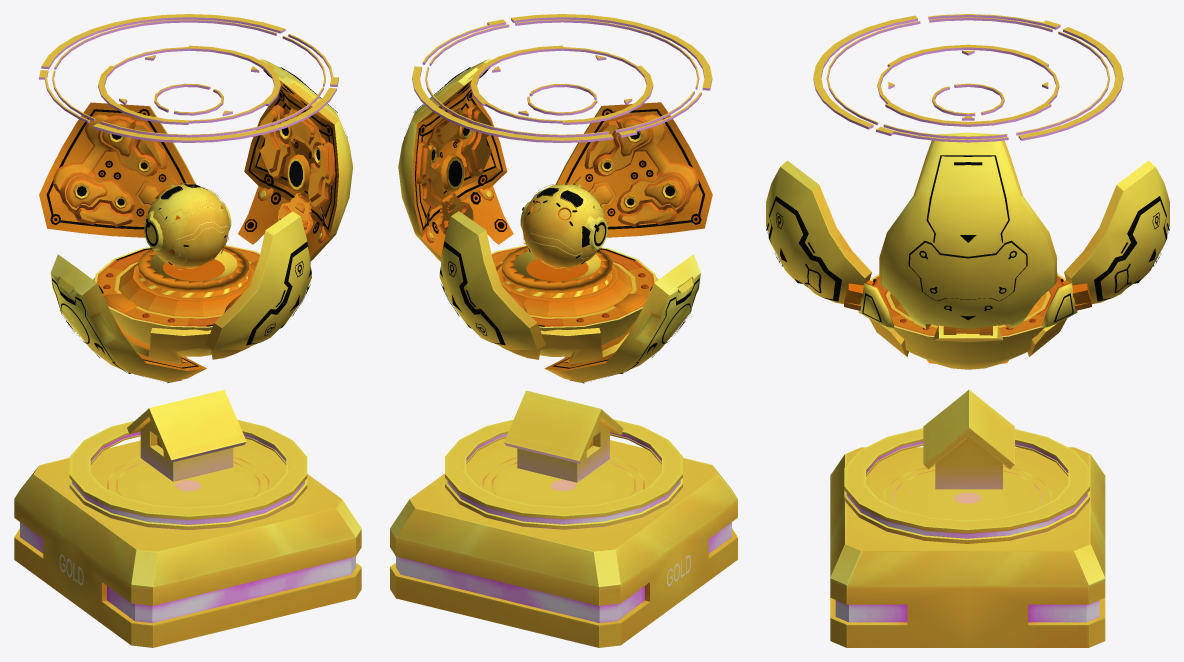
Rendered from my_trophy_chesed_indoor_gold.glb.
3 renders of one model, left to right at view 1: azimuth 30°, elevation 25°; view 2: azimuth 150°, elevation 25°; view 3: azimuth 270°, elevation 25°, orthographic. The views are drawn at different scales.
Visible parts, largest first — view 1: my_trophy_chesed_indoor_gold; view 2: my_trophy_chesed_indoor_gold; view 3: my_trophy_chesed_indoor_gold.
Part boxes in pixels (x1=…): my_trophy_chesed_indoor_gold: x1=14, y1=14, x2=361, y2=647; my_trophy_chesed_indoor_gold: x1=390, y1=14, x2=737, y2=647; my_trophy_chesed_indoor_gold: x1=766, y1=14, x2=1169, y2=647.
Bounding box in the file's own units: 0.0046 × 0.00804 × 0.00573.
Materials: 3 (3 with a texture image).
